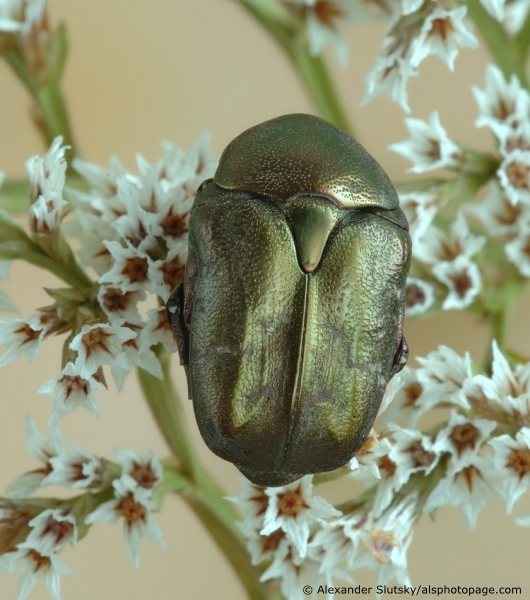Protaetia_metallica: (183, 106, 424, 477)
